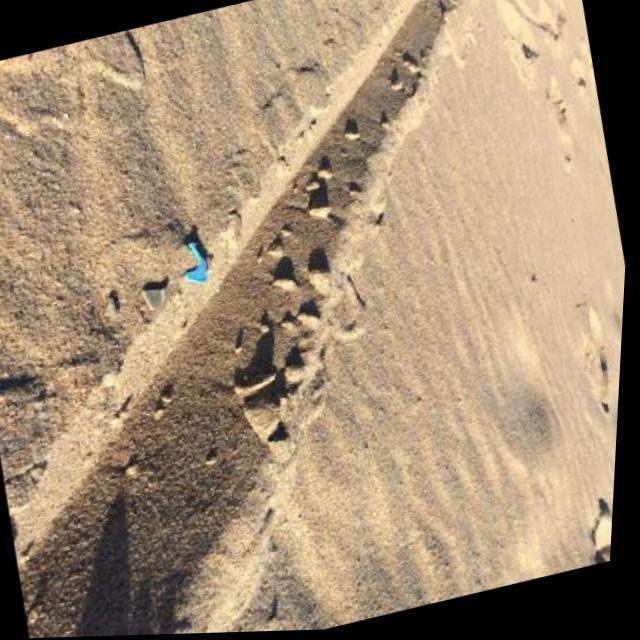plastic: (175, 238, 211, 286)
